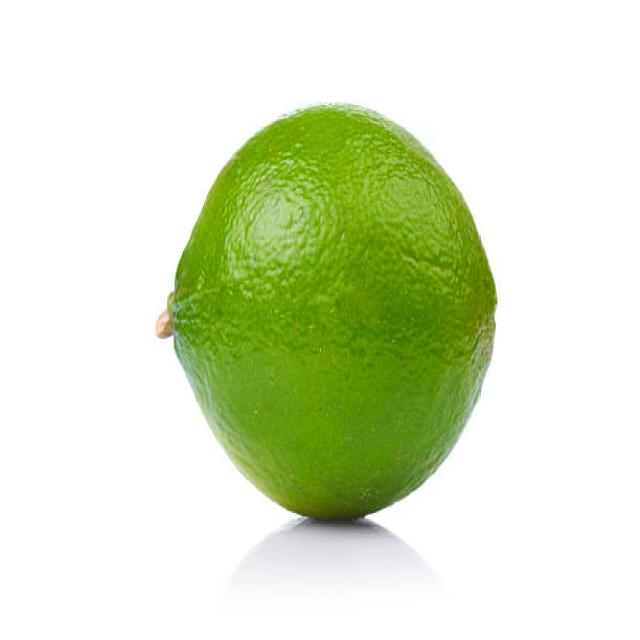Unripe: (169, 101, 500, 522)
